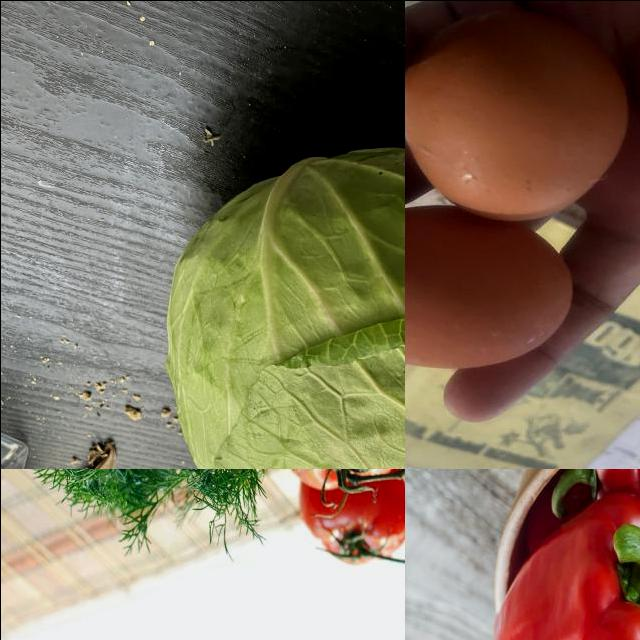bell_pepper: (495, 503, 640, 640)
cabbage: (162, 143, 405, 469)
egg: (405, 6, 630, 223), (405, 206, 573, 374)
tomato: (299, 469, 405, 563)
